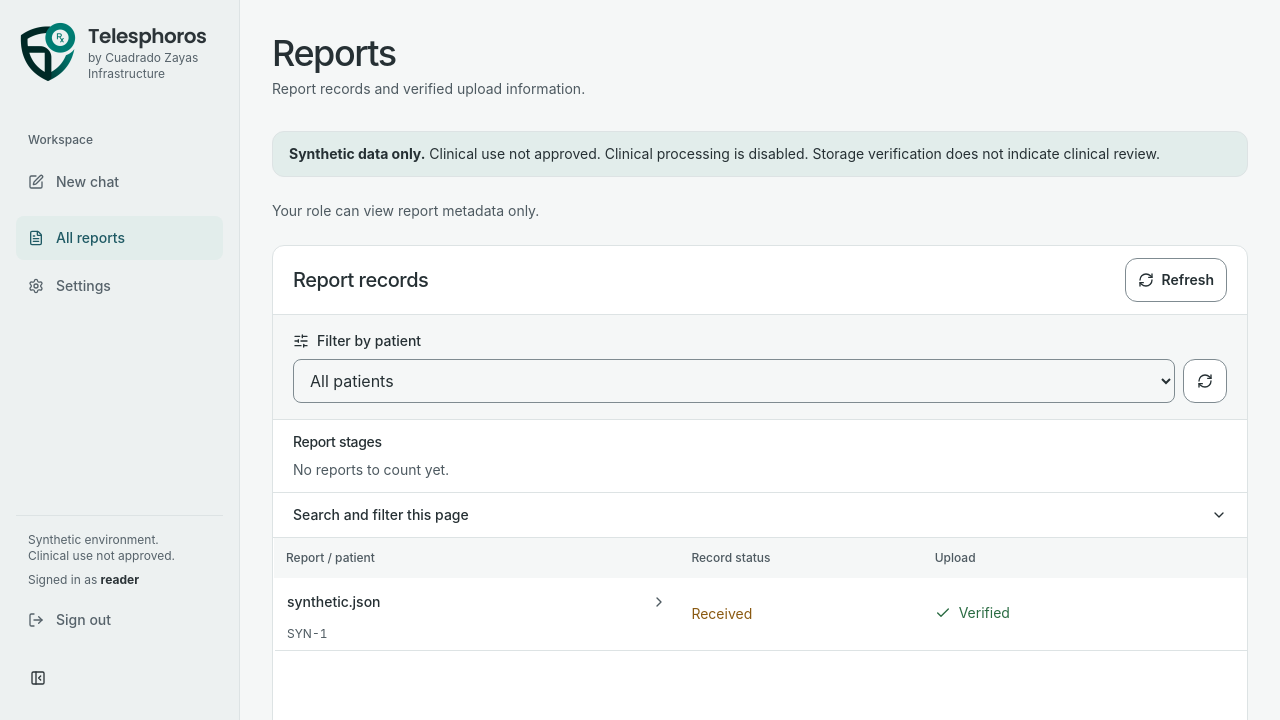
Test: reports page with real auth and route guards › clears a patient filter during a slow read without losing focus or restoring a late result
The image size is (1280, 720).
Expected: the button with aria-label "Open synthetic.json" is shown, top-left (287, 578), bottom-right (667, 626)
Select "SYN-2" in the dropdown labelled "Filter by patient". click: (734, 381)
box: top-left (293, 359), bottom-right (1175, 403)
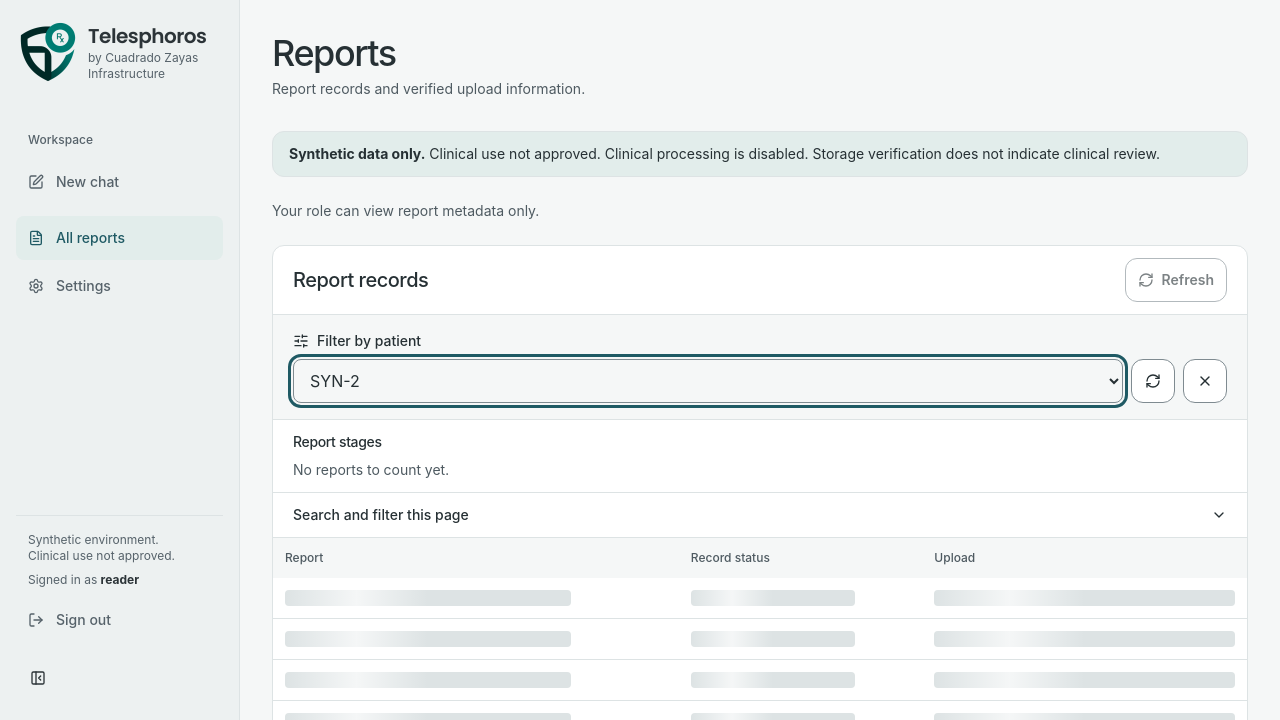
Click the button named "Clear patient filter". click: (1205, 381)
box: top-left (1183, 359), bottom-right (1227, 403)
(page scrolled)
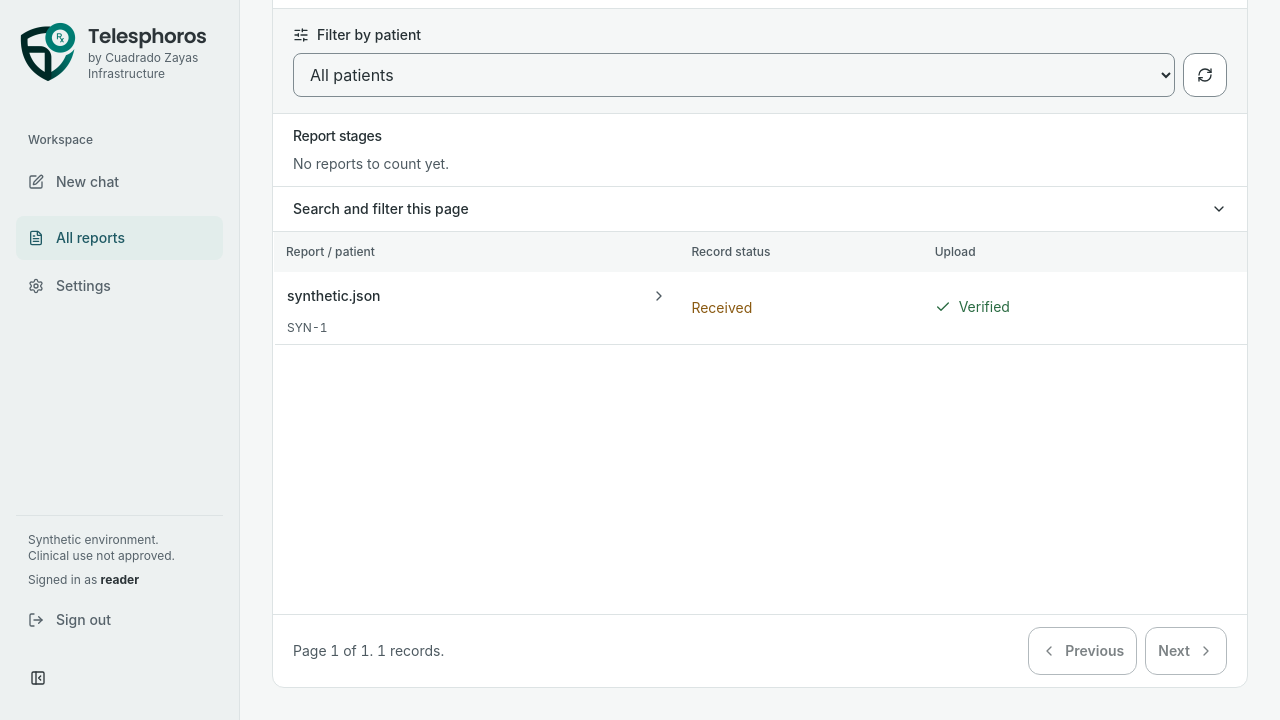
Result: the button with aria-label "Open synthetic.json" is shown at top-left (287, 272), bottom-right (667, 320)
